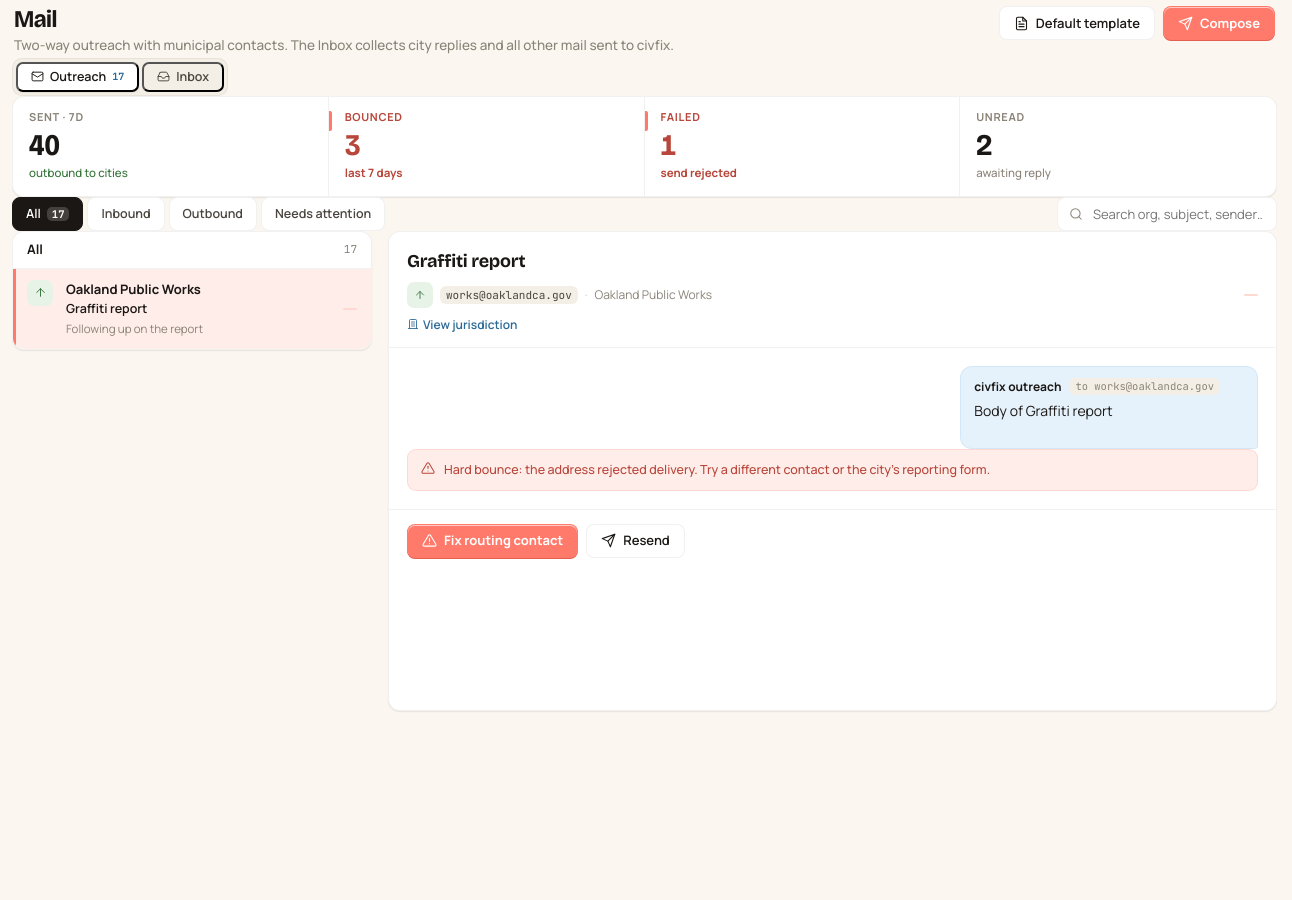
it: MailPage reader › keeps Fix routing contact usable while a resend is in flight
Click the button "Resend".
click(636, 541)  # box top-left (586, 524), bottom-right (685, 558)
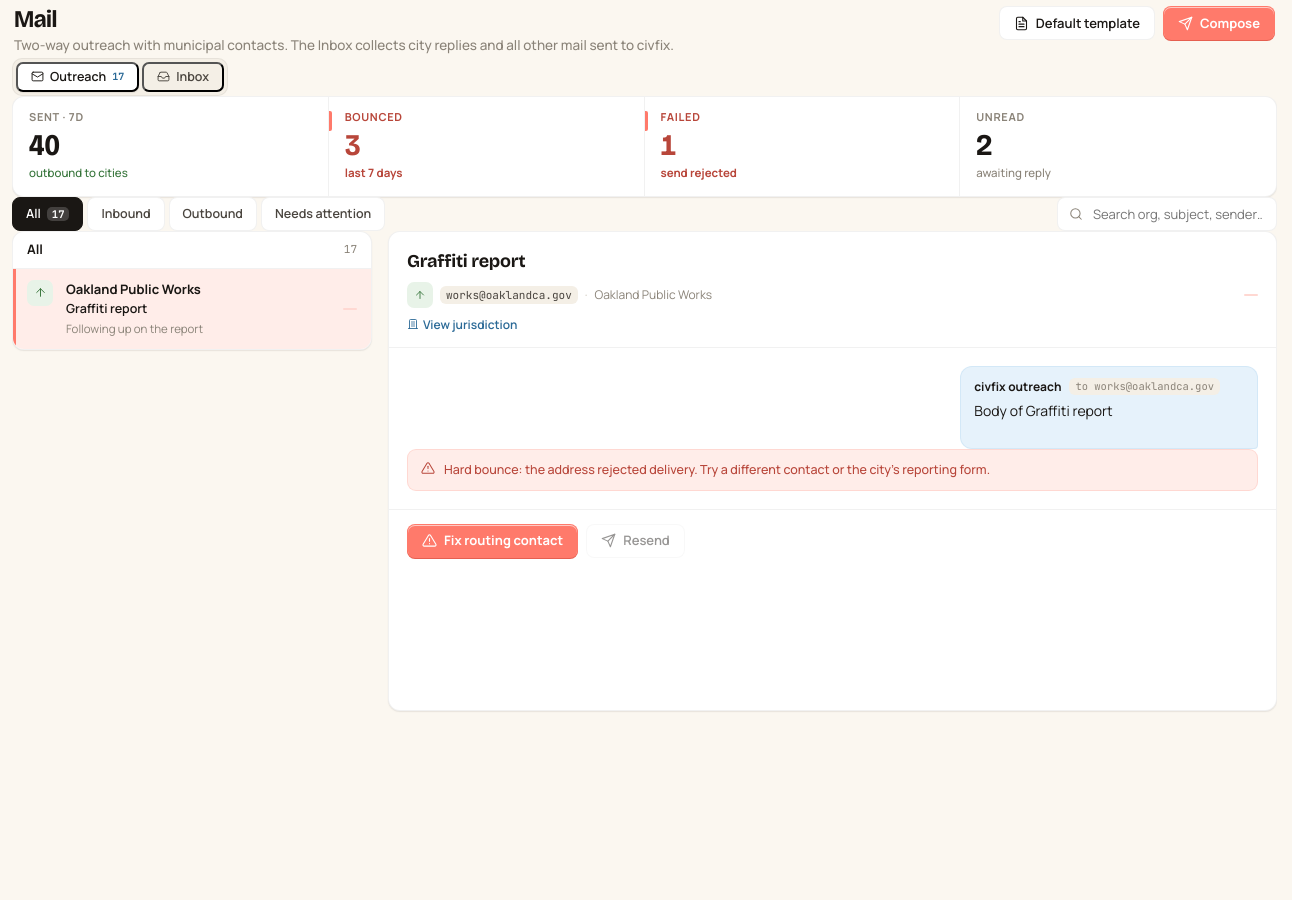
Check: the button "Fix routing contact" is enabled, box top-left (407, 524), bottom-right (578, 558)
Check: the button "Resend" is disabled, box top-left (586, 524), bottom-right (685, 558)
